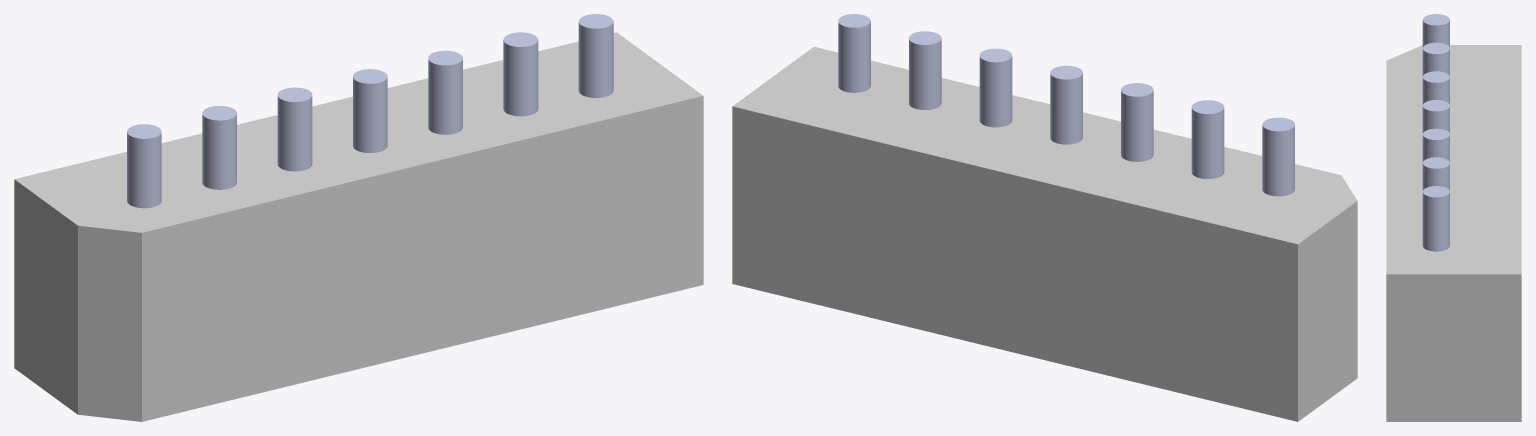
File: Default__12_STEP_1_RP_lidar_A1_igs_STEP_1_connector_7pin_2_5_igs_STEP_1_solid1.obj
3 views of the same model, side by side, from view 1: azimuth 30°, elevation 25°; view 2: azimuth 150°, elevation 25°; view 3: azimuth 270°, elevation 25° (orthographic). The views are drawn at different scales.
Visible parts, largest first — view 1: mesh556, mesh558, mesh557, mesh553, mesh561, mesh559, mesh567, mesh563, mesh569, mesh565, mesh571; view 2: mesh554, mesh558, mesh553, mesh563, mesh569, mesh559, mesh565, mesh567, mesh571, mesh561; view 3: mesh558, mesh555, mesh559, mesh567, mesh561, mesh563, mesh569, mesh565, mesh571, mesh568, mesh562, mesh564 (+4 smaller).
Boxes of the visible parts, x1,y1,x2,y2 form: mesh556: (142,96,703,421); mesh558: (14,32,703,232); mesh557: (78,225,141,421); mesh553: (14,179,77,414); mesh561: (503,40,538,116); mesh559: (578,22,613,97); mesh567: (277,96,312,171); mesh563: (428,59,462,134); mesh569: (202,114,236,189); mesh565: (353,77,387,152); mesh571: (127,132,161,208); mesh554: (732,106,1297,421); mesh558: (732,46,1357,244); mesh553: (1298,201,1357,421); mesh563: (979,56,1012,127); mesh569: (1191,108,1224,179); mesh559: (838,21,870,92); mesh565: (1050,73,1082,144); mesh567: (1121,91,1153,161); mesh571: (1262,125,1294,196); mesh561: (909,39,941,109); mesh558: (1386,45,1521,274); mesh555: (1386,274,1521,421); mesh559: (1422,192,1449,251); mesh567: (1422,77,1449,104); mesh561: (1422,163,1449,190); mesh563: (1422,135,1449,162); mesh569: (1422,49,1449,76); mesh565: (1422,106,1449,133); mesh571: (1422,20,1449,47); mesh568: (1423,71,1449,82); mesh562: (1423,157,1449,168); mesh564: (1422,128,1449,139).
Bounding box in the file's own units: 0.02 × 0.0082 × 0.005.
